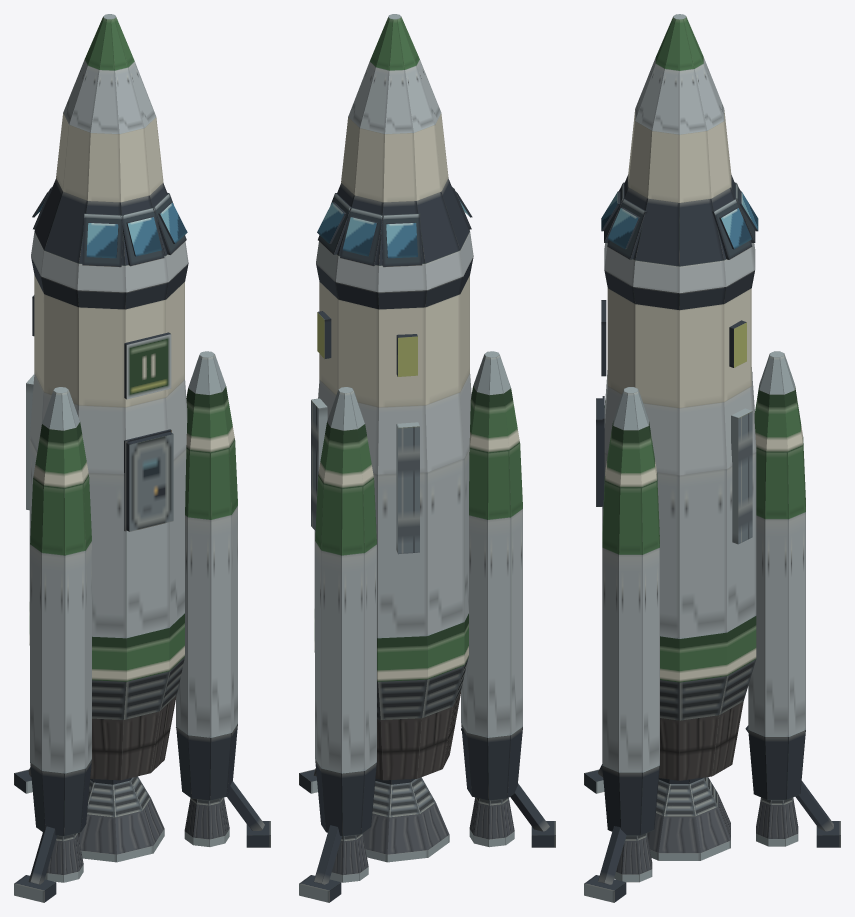
The model's file is tier_2_rocket.obj.
3 views of the same model, side by side, from view 1: azimuth 30°, elevation 25°; view 2: azimuth 150°, elevation 25°; view 3: azimuth 270°, elevation 25° (orthographic).
Visible parts, largest first — view 1: airframe, access_hatch; view 2: airframe; view 3: airframe, access_hatch.
Part boxes in pixels (x1=…): airframe: x1=14, y1=14, x2=270, y2=902; access_hatch: x1=126, y1=432, x2=173, y2=531; airframe: x1=299, y1=14, x2=555, y2=902; airframe: x1=584, y1=14, x2=840, y2=902; access_hatch: x1=596, y1=398, x2=602, y2=506.
Bounding box in the file's own units: 1.54 × 4.72 × 1.33.
